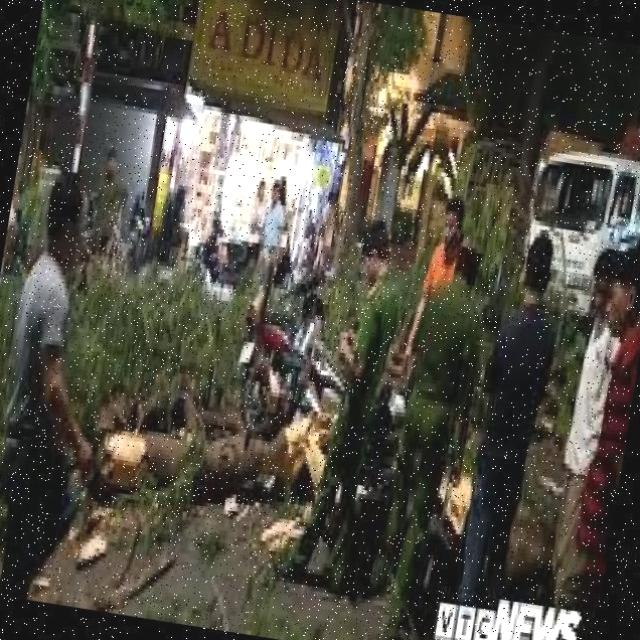fallen_object: (0, 231, 451, 564)
